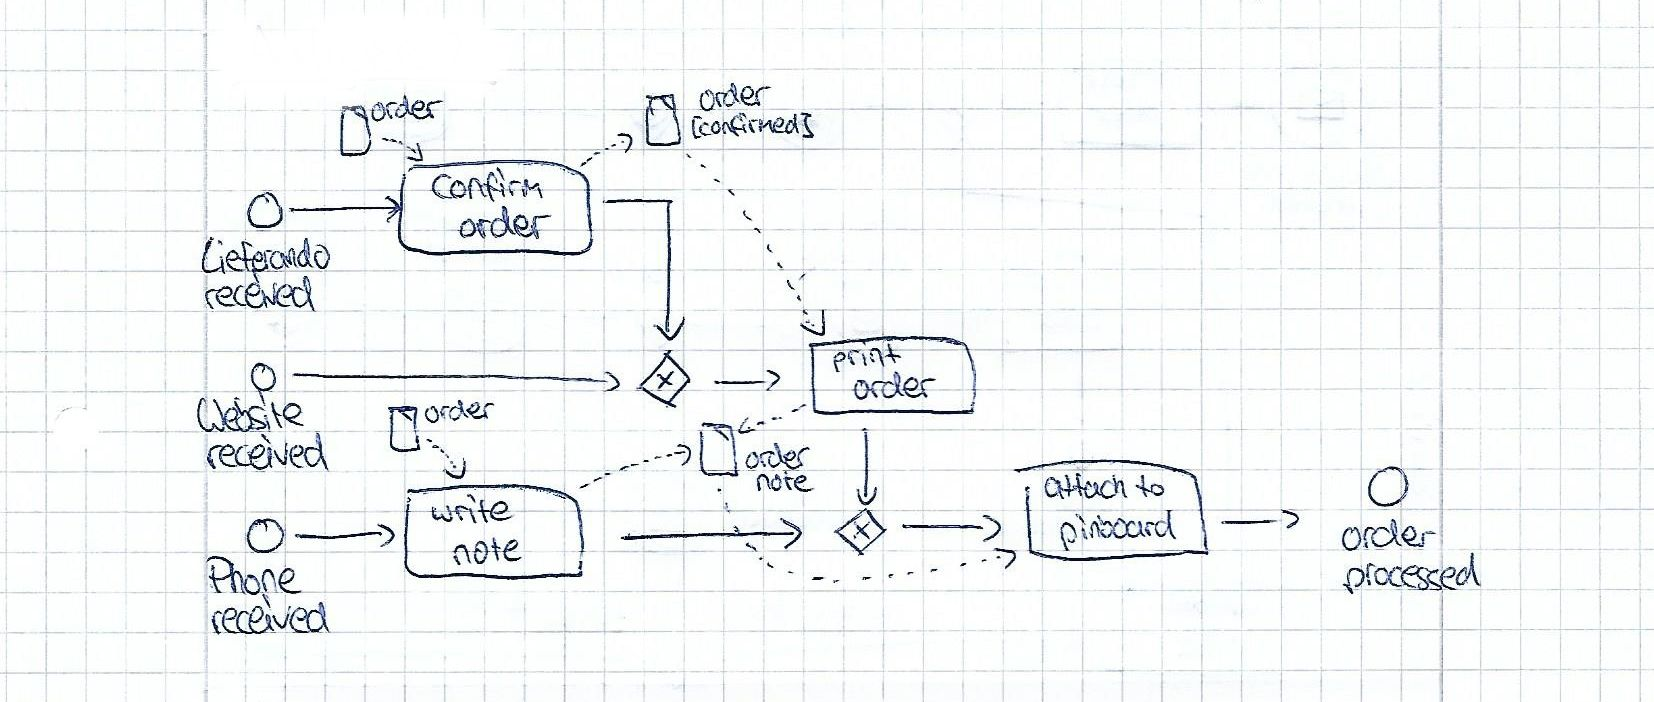Lieferando: (195, 235, 334, 279)
Phone: (203, 552, 303, 597)
Website: (194, 393, 307, 436)
[confirmed]: (684, 112, 816, 141)
attach: (1040, 472, 1131, 502)
confirm: (430, 169, 545, 205)
note: (450, 535, 524, 567), (753, 469, 815, 495)
order: (456, 202, 550, 242), (1338, 519, 1439, 553), (851, 369, 936, 404), (696, 78, 775, 114), (366, 90, 445, 122), (421, 394, 497, 425), (743, 440, 812, 473)
pinboard: (1056, 508, 1180, 552)
print: (827, 345, 908, 374)
processed: (1341, 554, 1485, 600)
received: (201, 434, 335, 474), (208, 597, 332, 640), (201, 276, 318, 315)
to: (1134, 472, 1168, 501)
write: (426, 494, 518, 525)
